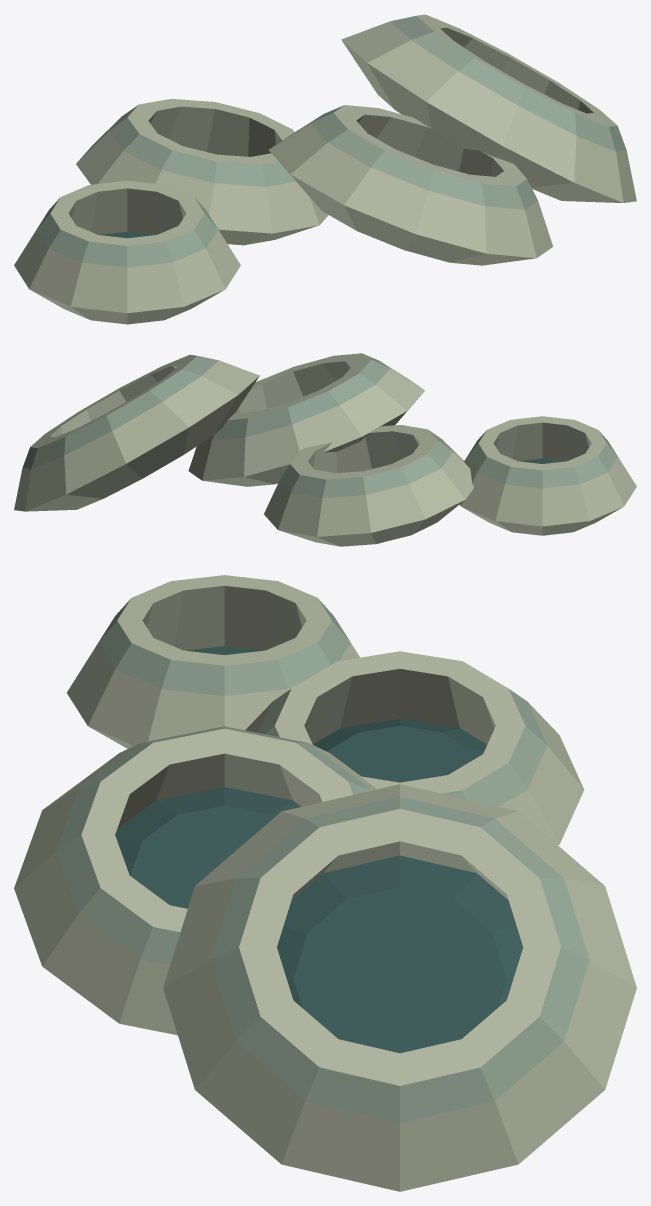
Rendered from shell-cluster.glb.
3 views of the same model, one above another, from view 1: azimuth 30°, elevation 25°; view 2: azimuth 150°, elevation 25°; view 3: azimuth 270°, elevation 25° (orthographic). The views are drawn at different scales.
Visible parts, largest first — view 1: shell-cluster__body; view 2: shell-cluster__body; view 3: shell-cluster__body.
Boxes of the visible parts, x1,y1,x2,y2 form: shell-cluster__body: (14,14,636,324); shell-cluster__body: (14,353,636,546); shell-cluster__body: (14,575,636,1191).
Size of the model in its own units: 1.18 by 0.3312 by 0.71.
